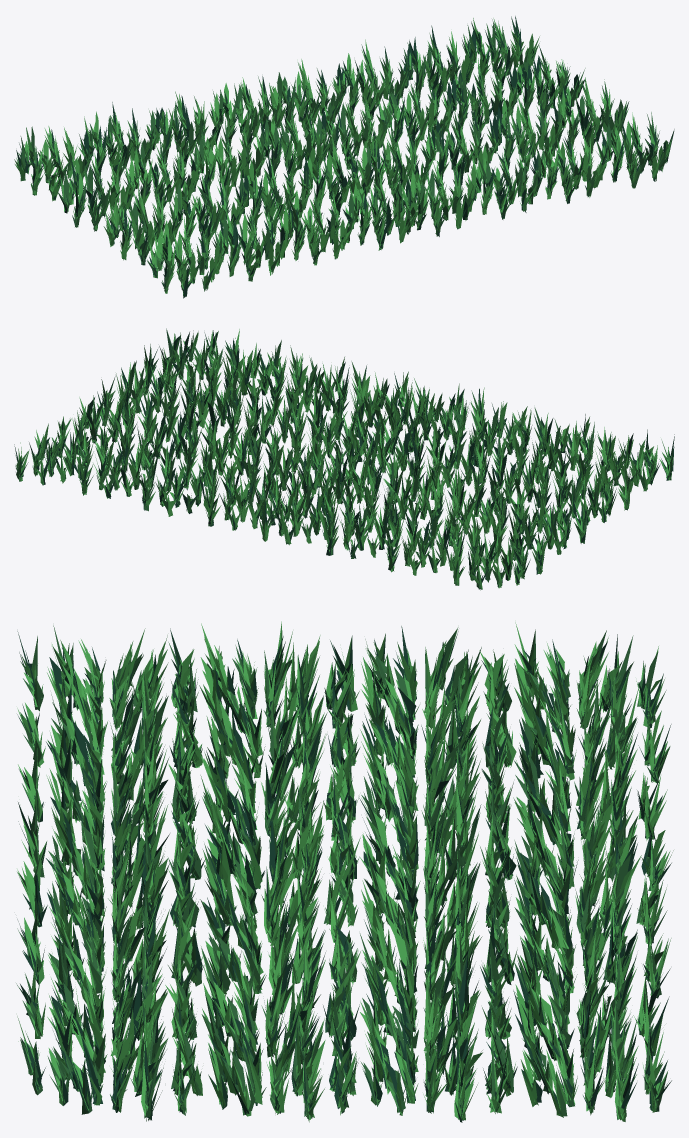
Rendered from Trawa.fbx.
3 views of the same model, one above another, from view 1: azimuth 30°, elevation 25°; view 2: azimuth 150°, elevation 25°; view 3: azimuth 270°, elevation 25° (orthographic). The views are drawn at different scales.
Parts seen in each view (by area): view 1: Plane.640; view 2: Plane.640; view 3: Plane.640.
Boxes of the visible parts, x1,y1,x2,y2 form: Plane.640: (14, 16, 674, 298); Plane.640: (14, 328, 674, 590); Plane.640: (16, 621, 673, 1122).
Size of the model in its own units: 3271 by 238 by 2051.
